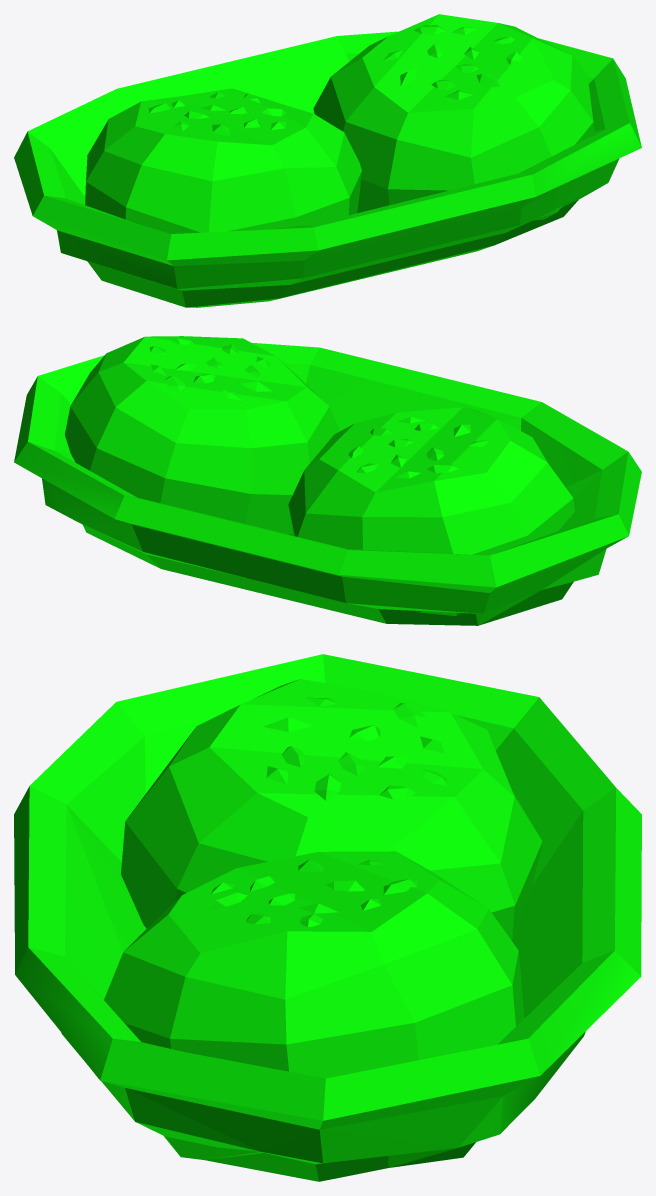
Rendered from SM_Basket_Bread_Seeded_Fantasy.fbx.
3 views of the same model, one above another, from view 1: azimuth 30°, elevation 25°; view 2: azimuth 150°, elevation 25°; view 3: azimuth 270°, elevation 25° (orthographic). The views are drawn at different scales.
Parts seen in each view (by area): view 1: basket-bread-seeded-fantasy; view 2: basket-bread-seeded-fantasy; view 3: basket-bread-seeded-fantasy.
Boxes of the visible parts, x1,y1,x2,y2 form: basket-bread-seeded-fantasy: (14, 14, 641, 307); basket-bread-seeded-fantasy: (14, 336, 641, 625); basket-bread-seeded-fantasy: (14, 654, 641, 1181).
Size of the model in its own units: 0.6069 by 0.17 by 0.3685.
